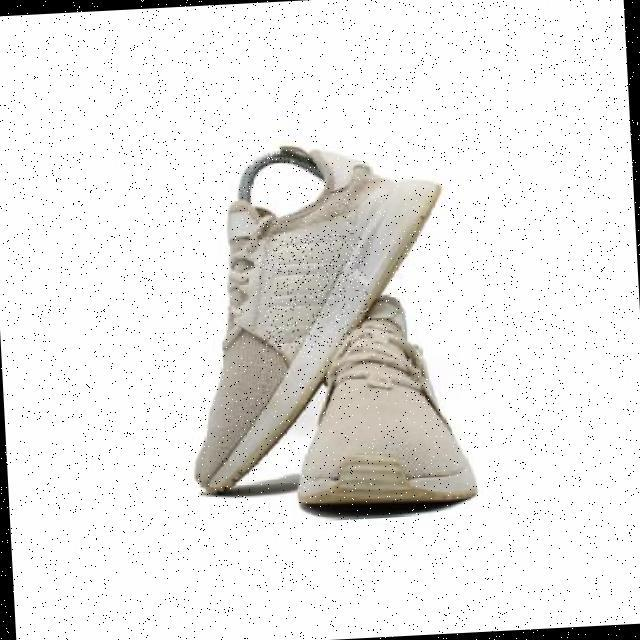Adidas: (258, 233, 371, 352)
